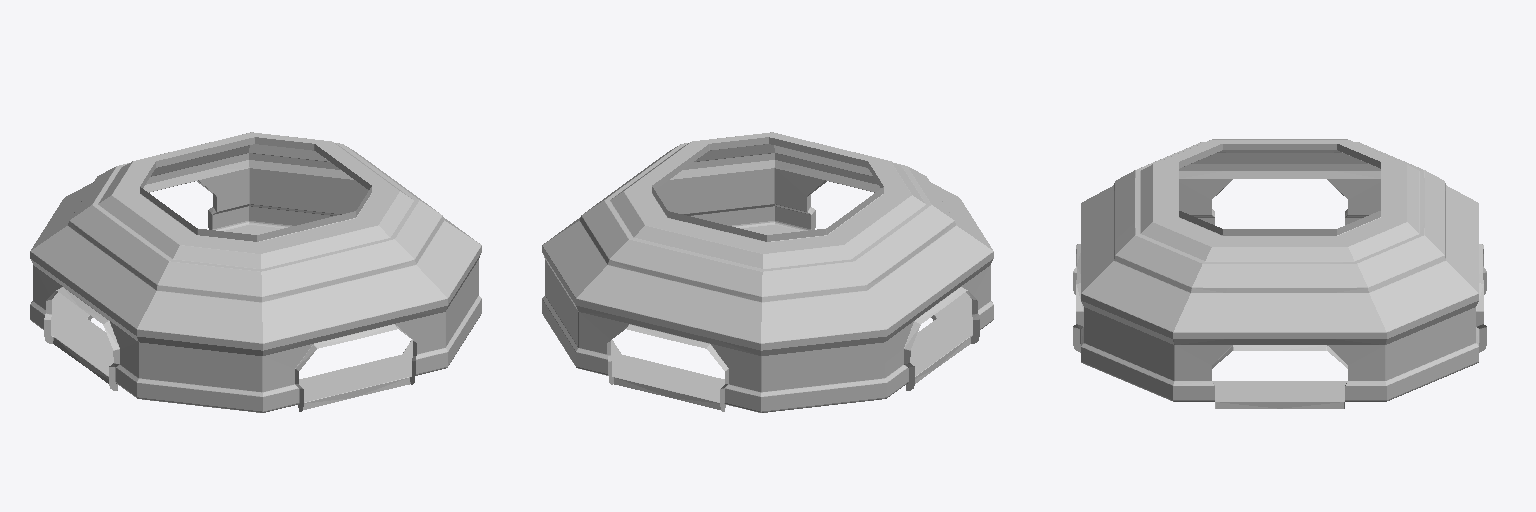
The model's file is Room01In.obj.
The picture shows the model from 3 angles: view 1: azimuth 30°, elevation 25°; view 2: azimuth 150°, elevation 25°; view 3: azimuth 270°, elevation 25°; orthographic projection.
Parts seen in each view (by area): view 1: RoomIn_Cube.004; view 2: RoomIn_Cube.004; view 3: RoomIn_Cube.004.
Boxes of the visible parts, x1,y1,x2,y2 form: RoomIn_Cube.004: [30, 132, 481, 412]; RoomIn_Cube.004: [542, 132, 993, 412]; RoomIn_Cube.004: [1073, 139, 1486, 408].
Size of the model in its own units: 53.27 by 19.8 by 53.27.